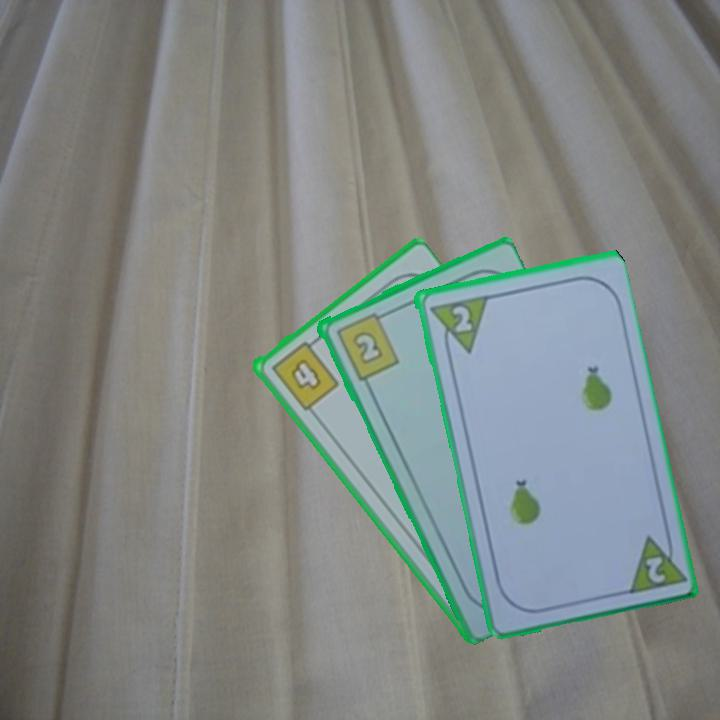2b: (331, 308, 402, 383)
2p: (425, 291, 490, 359), (641, 552, 668, 586)
4b: (266, 334, 341, 414)
